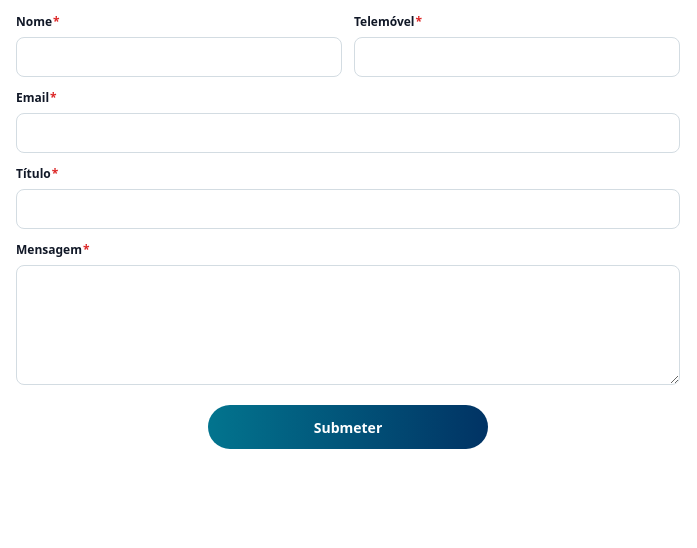
Test: ContactForm › mostra erros obrigatorios ao tentar enviar vazio
Click the button "Submeter" at (348, 427), box [208, 405, 488, 449]
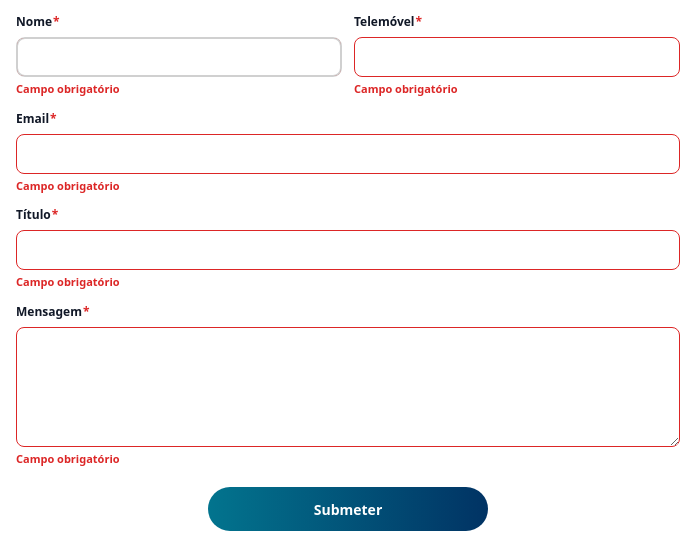
Expected: the text "Campo obrigatório" below "Nome" is shown, [16, 81, 120, 96]
